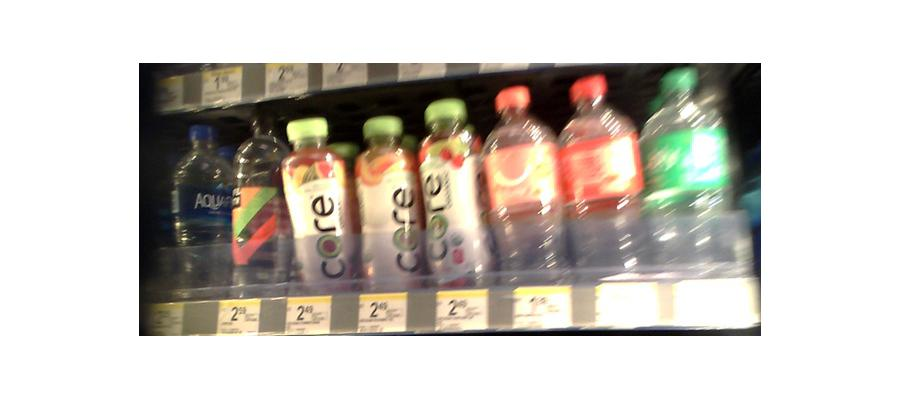bottle: (638, 69, 738, 271), (557, 74, 646, 278), (481, 83, 563, 290), (277, 116, 353, 292), (416, 96, 484, 292), (353, 112, 419, 294), (169, 121, 229, 299), (231, 108, 281, 295)
